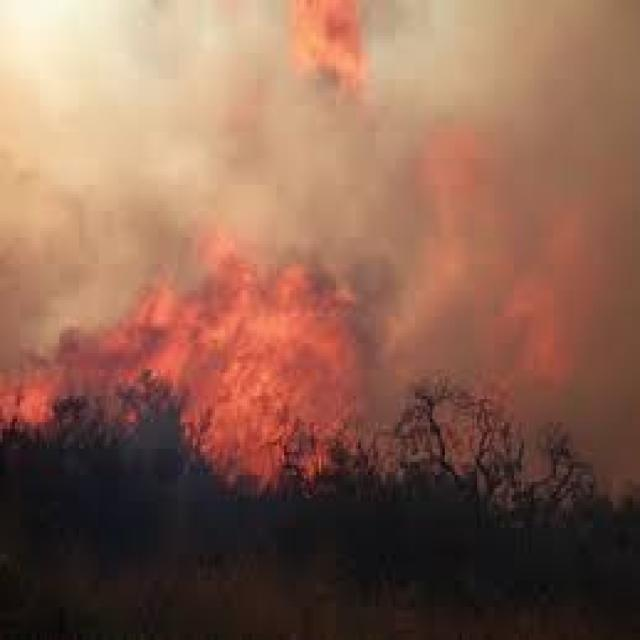Fire: (198, 245, 380, 476), (104, 267, 368, 372), (258, 0, 387, 109)
Smoke: (241, 0, 639, 417), (0, 0, 342, 270), (90, 99, 605, 237), (426, 6, 640, 327), (483, 34, 640, 462)
